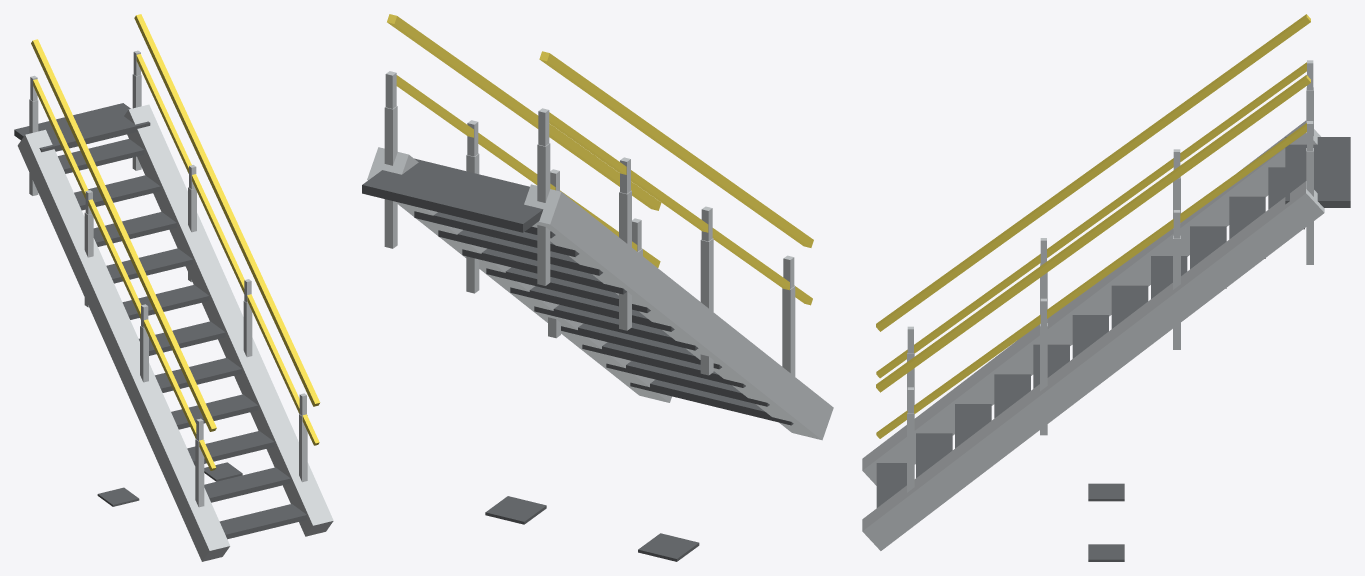
Rendered from mezzanine-access-stair-3-m-rise.glb.
3 renders of one model, left to right at view 1: azimuth 30°, elevation 25°; view 2: azimuth 150°, elevation 25°; view 3: azimuth 270°, elevation 25°, orthographic. The views are drawn at different scales.
Parts seen in each view (by area): view 1: machine-shop-and-factory-hall-mezzanine-stair; view 2: machine-shop-and-factory-hall-mezzanine-stair; view 3: machine-shop-and-factory-hall-mezzanine-stair.
Boxes of the visible parts, x1,y1,x2,y2 form: machine-shop-and-factory-hall-mezzanine-stair: (14,14,333,561); machine-shop-and-factory-hall-mezzanine-stair: (362,14,833,561); machine-shop-and-factory-hall-mezzanine-stair: (862,14,1350,561).
Size of the model in its own units: 1.38 by 4.04 by 3.74.
